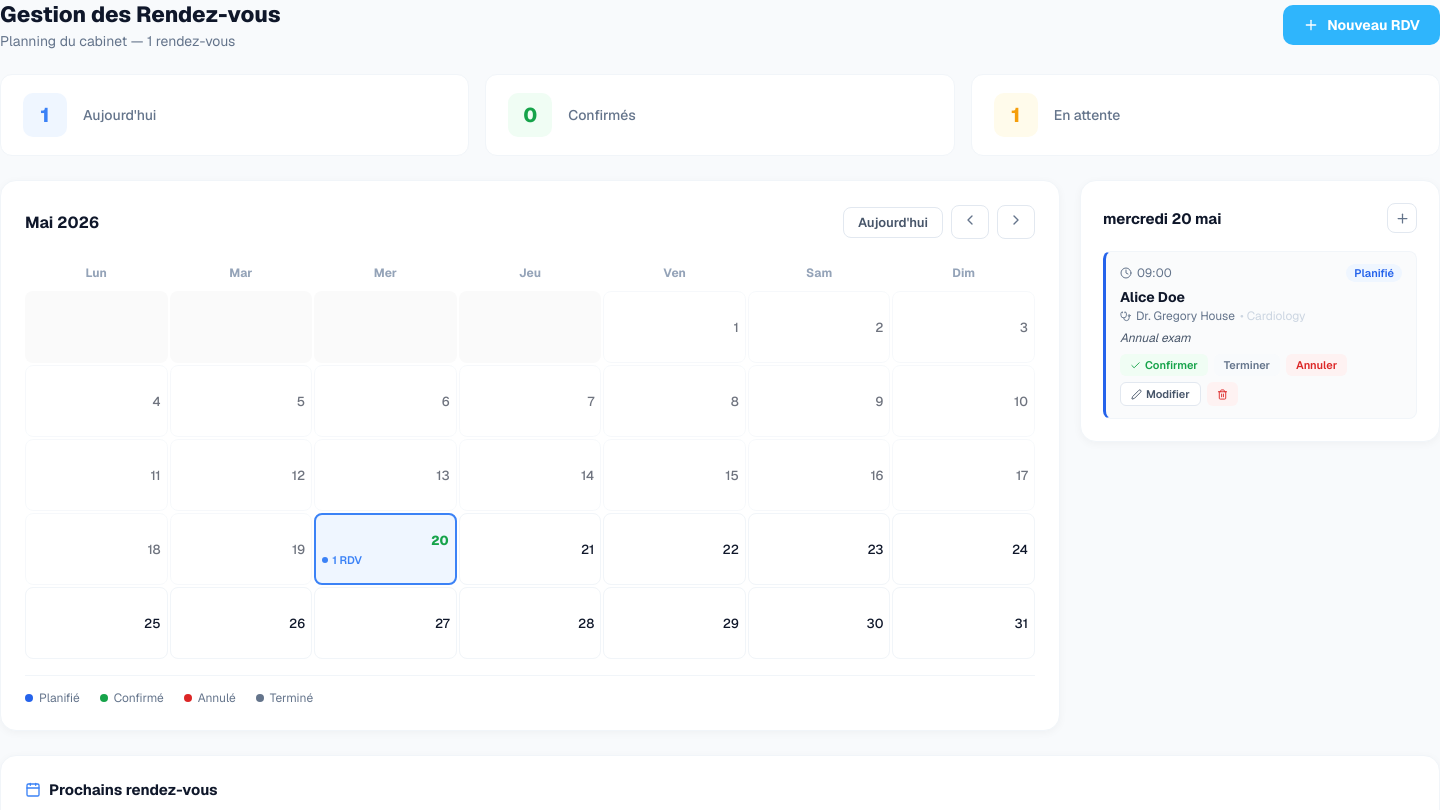
dashboard appointment and doctor pages › should show validation error when admin appointment modal is submitted incomplete
Expected: the heading "Gestion des Rendez-vous" is shown, [0,0,280,28]
Click the button "Nouveau RDV".
click(1362, 25)  # box [1283,5,1439,45]
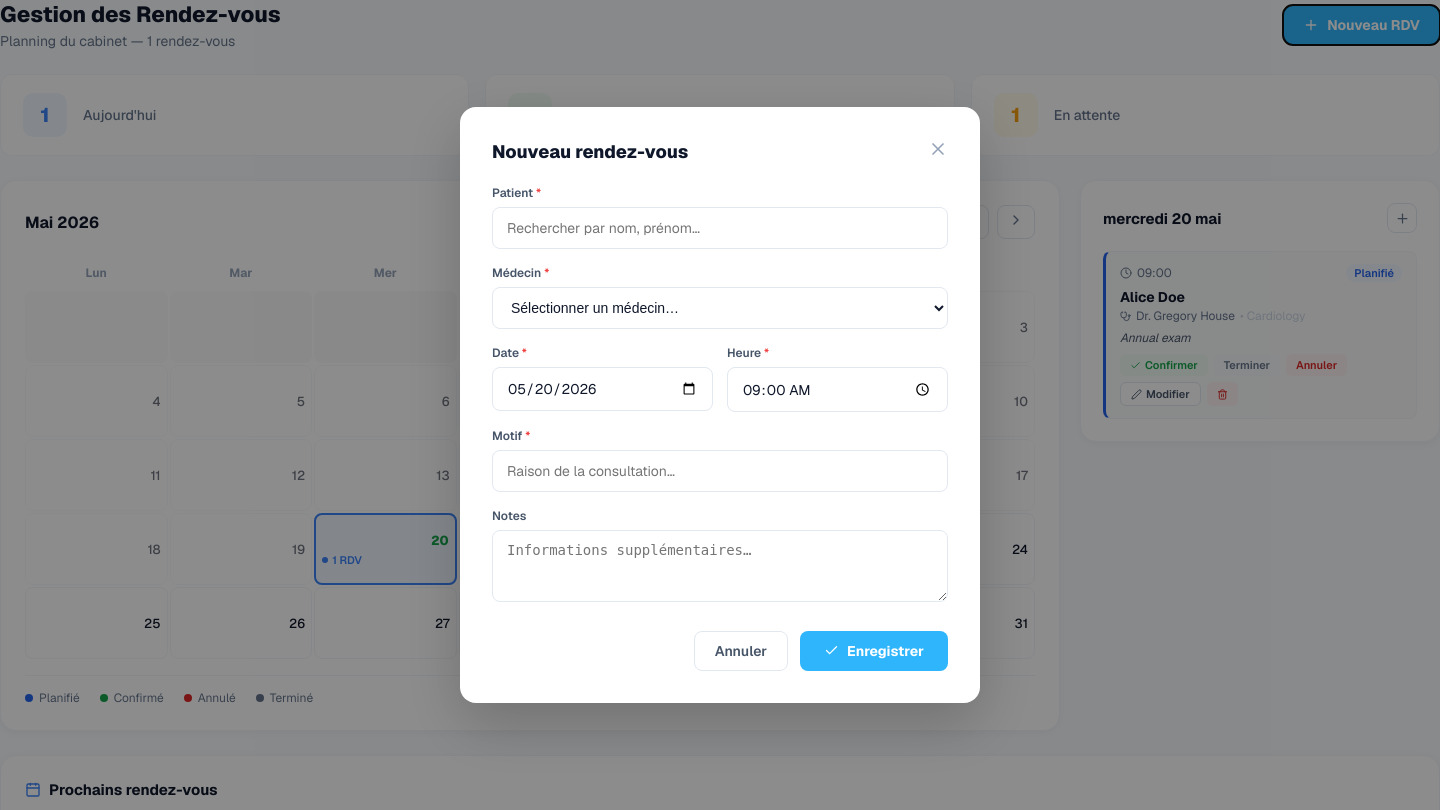
Click the button "Enregistrer".
click(874, 651)  # box [800,631,948,671]
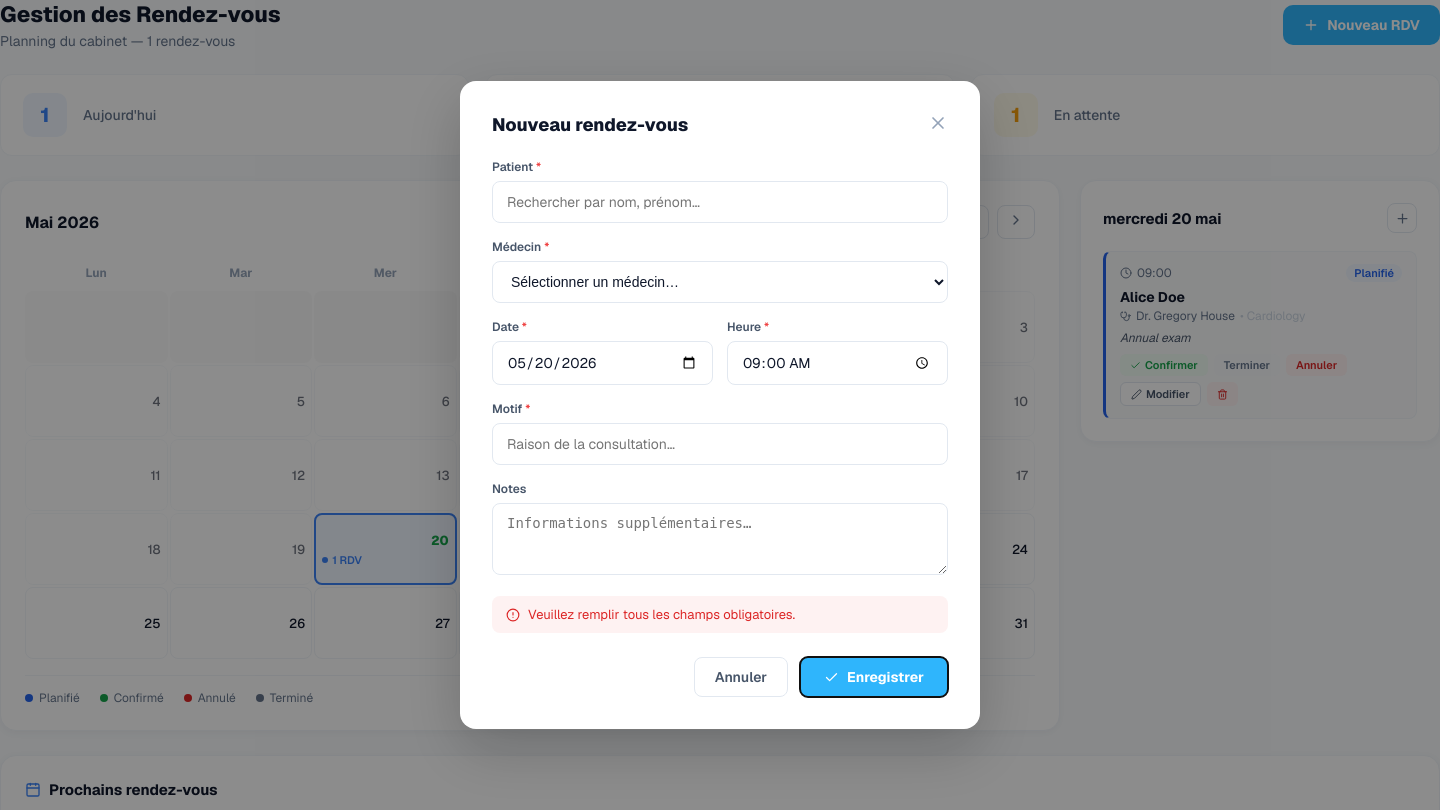
Expected: the text "Veuillez remplir tous les champs obligatoires." is shown, [492,596,948,633]
